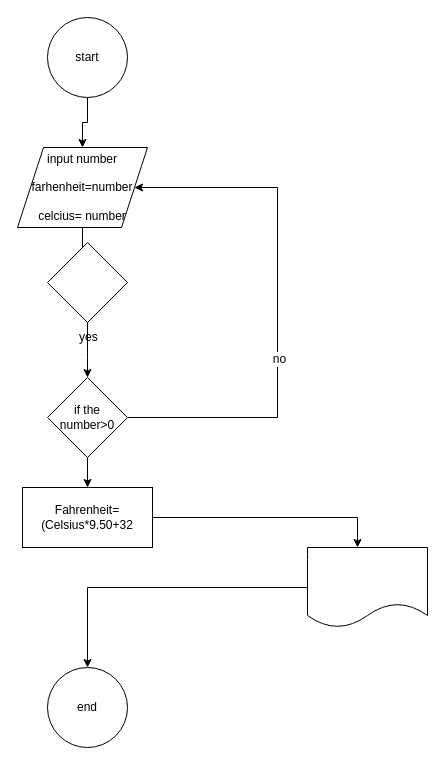
Some shapes in this 445 by 765 pixel diagram are drawn without their labels. The shapes that lost their labels are listed below. From the top down, each one's box as (x1, y1, x2, y2) in pixels, then its label:
(46, 242, 128, 322): if the input is the number
(306, 546, 428, 628): print the kg
